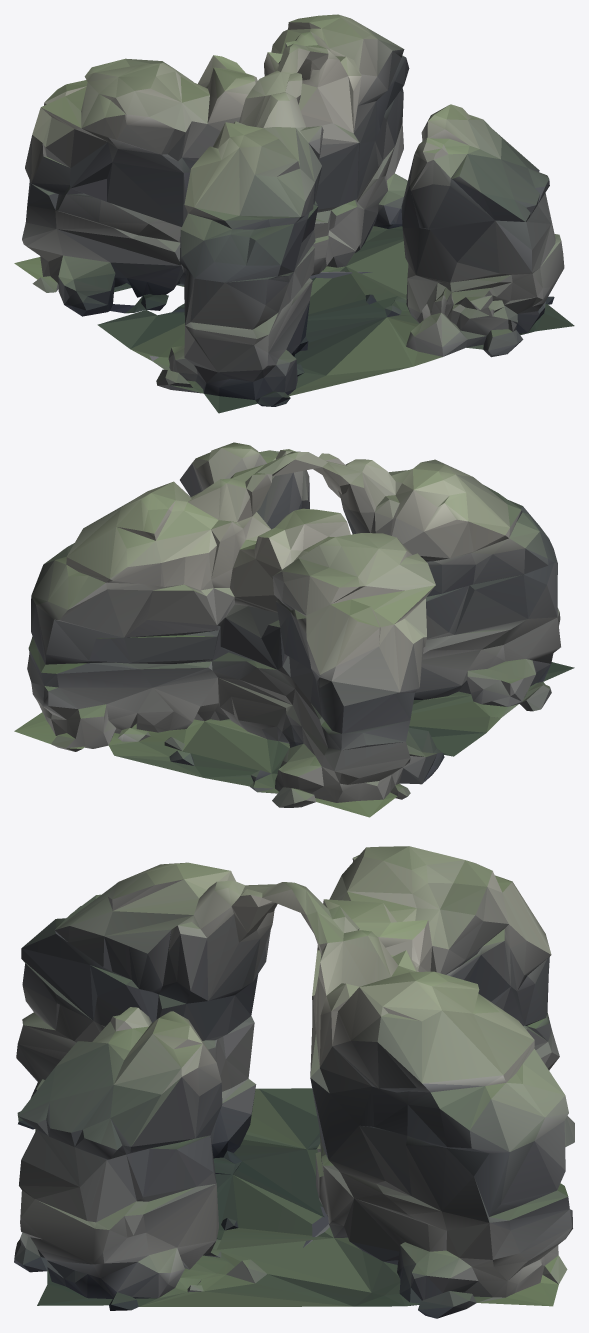
The picture shows the model from 3 angles, top to bottom: view 1: azimuth 30°, elevation 25°; view 2: azimuth 150°, elevation 25°; view 3: azimuth 270°, elevation 25°; orthographic projection. The views are drawn at different scales.
Visible parts, largest first — view 1: output_unwrapped; view 2: output_unwrapped; view 3: output_unwrapped.
Part boxes in pixels (x1,y1,x2,y2): output_unwrapped: (14,14,574,413); output_unwrapped: (14,442,574,817); output_unwrapped: (14,846,574,1318).
Bounding box in the file's own units: 1.89 × 1.19 × 1.89.
